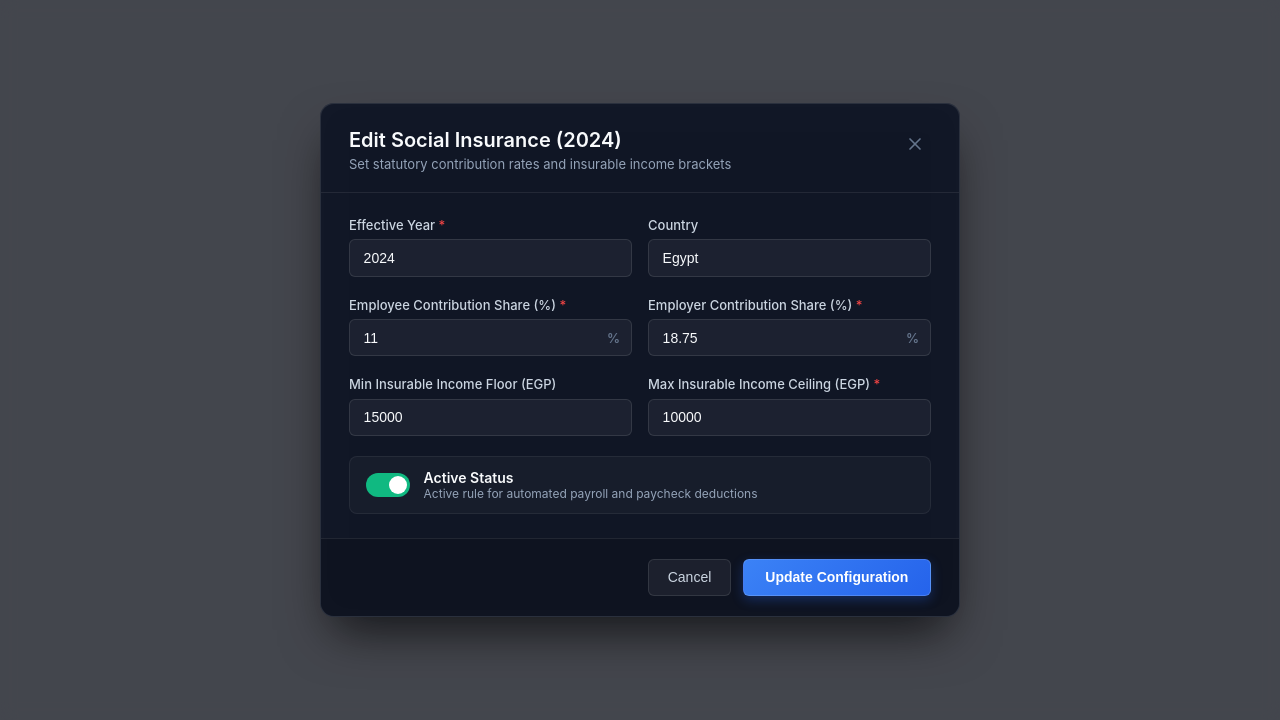
Test: InsuranceConfigModal Component › validates that maxInsurableIncome is >= minInsurableIncome
The image size is (1280, 720).
Click the button "Update Configuration" at (837, 577), box [743, 559, 931, 596]
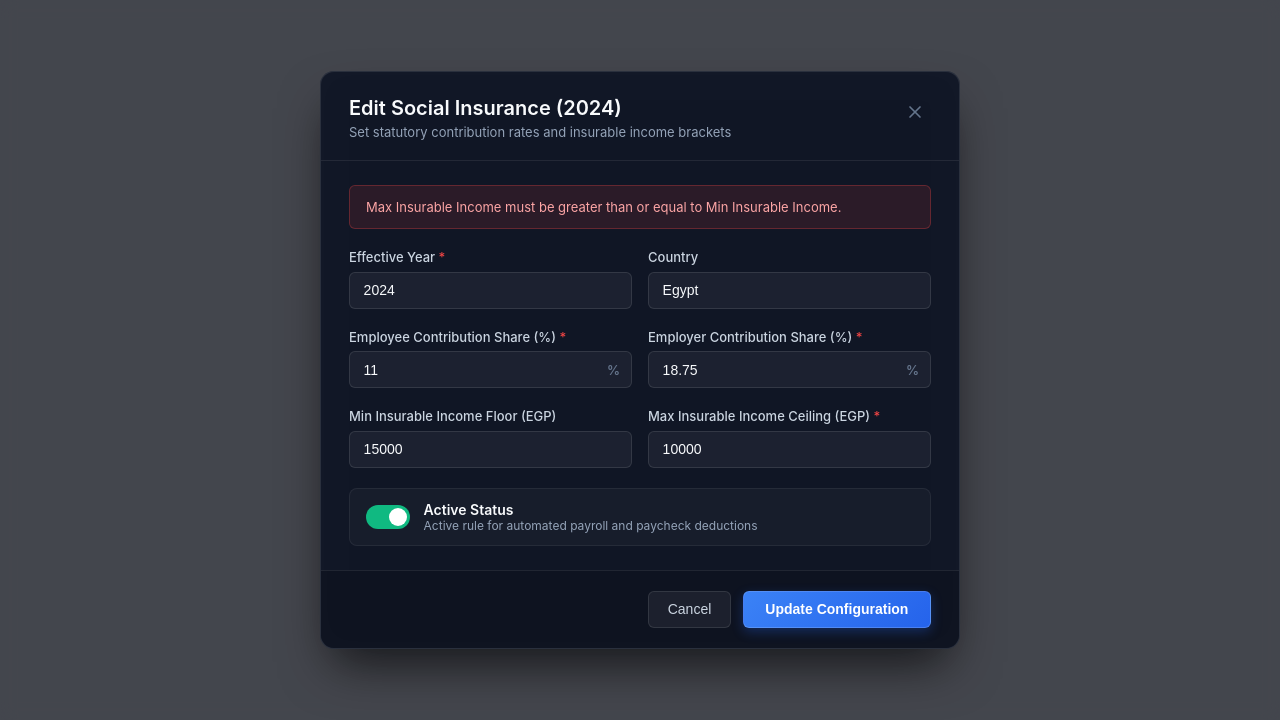
Now the message shows "Max Insurable Income must be greater than or equal to Min Insurable Income", box [366, 199, 842, 215]
